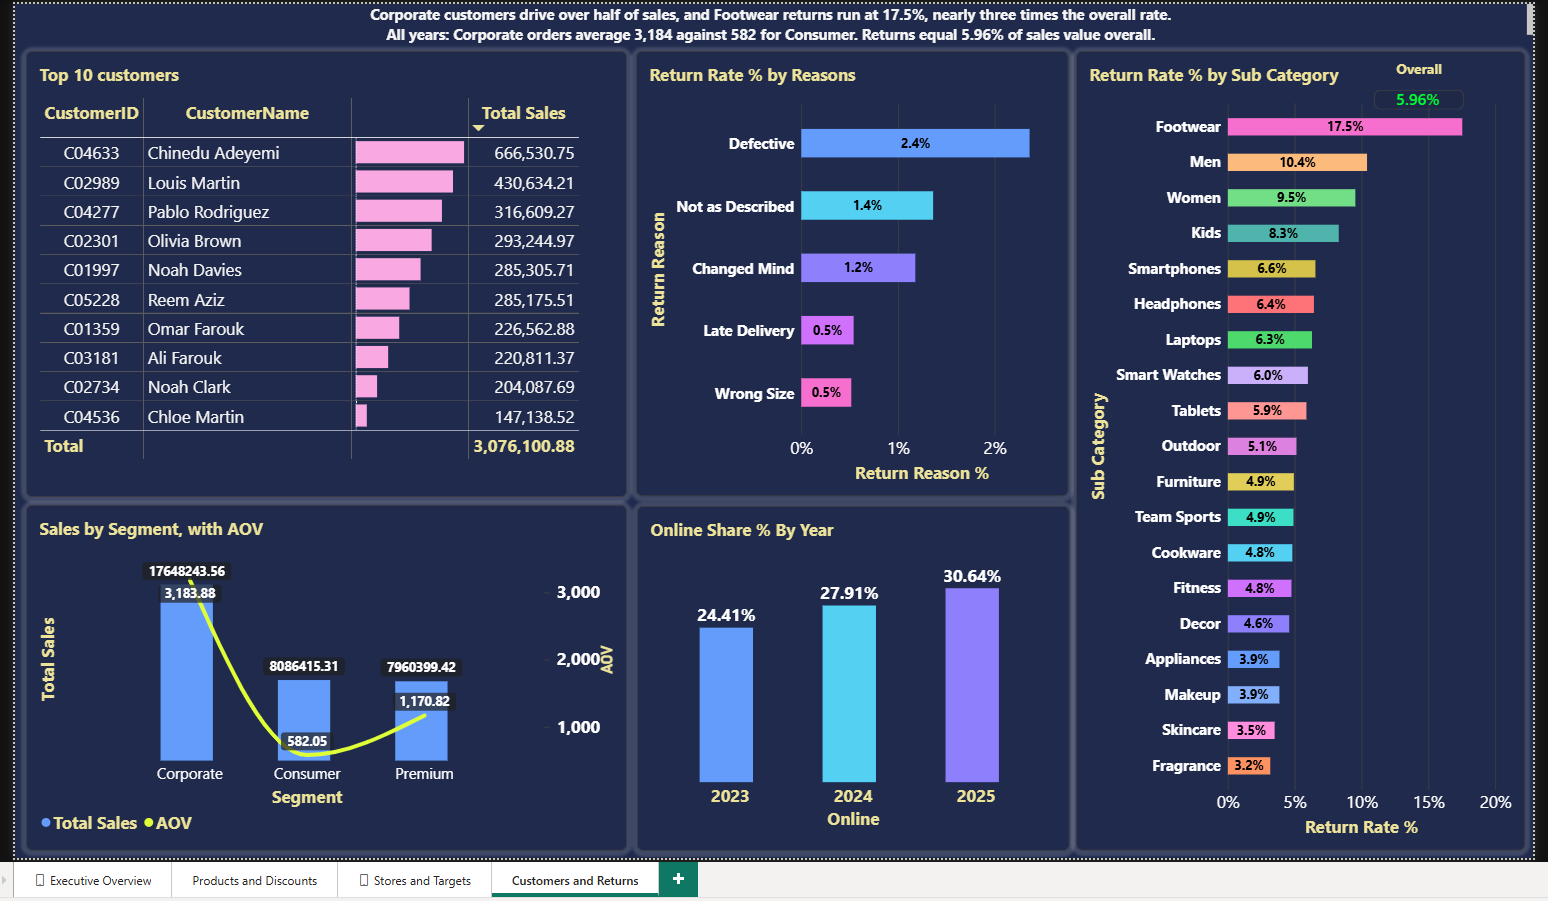

The page's visual inventory and layout, read from the dashboard file:
{"tool":"powerbi","page":{"name":"Customers and Returns","canvas":[1920,1080],"ordinal":3},"visuals":[{"type":"lineClusteredColumnComboChart","title":"Sales by Segment, with AOV","fields":{"Category":["Customers.Segment"],"Y":["Sales.Total Sales"],"Y2":["Sales.AOV"]},"box":[13.4,634,760.3,436.6],"z":1000},{"type":"tableEx","title":" Top 10 customers","fields":{"Values":["Customers.CustomerID","Customers.CustomerName","Customers.RANK BAR","Sales.Total Sales"]},"box":[13.4,59.1,760.3,564.2],"z":2000},{"type":"barChart","title":"Return Rate % by Sub Category","fields":{"Category":["Products.SubCategory"],"Series":["Products.SubCategory"],"Y":["Sales.RETURN_RATE %"]},"box":[1341.9,59.1,568.2,1011.5],"z":3000},{"type":"textbox","box":[0,0,1919.6,52.4],"z":4000},{"type":"barChart","title":"Return Rate % by Reasons","fields":{"Category":["Returns.ReturnReason"],"Series":["Returns.ReturnReason"],"Y":["Sales.RETUR REASON %"]},"box":[785.8,59.1,546.7,562.8],"z":5000},{"type":"columnChart","title":"Online Share % By Year","fields":{"Category":["Sales.Channel","DateTable.Date.Variation.Date Hierarchy.Year"],"Series":["DateTable.Date.Variation.Date Hierarchy.Year"],"Y":["Sales.ONLINE SHARE %"]},"box":[786.4,634.7,547.1,436.2],"z":6000},{"type":"cardVisual","title":"Overall","fields":{"Data":["Sales.RETURN_RATE %"]},"box":[1718.1,69.9,114.2,64.5],"z":7000}]}

Visuals, with their boxes on the page's 1920x1080 design canvas (x1, y1, x2, y2). These are canvas units, not pixel positions in the 1548x901 screenshot, which may show the page scaled, cropped or inside an application window:
"Sales by Segment, with AOV" lineClusteredColumnComboChart: [left=13, top=634, right=774, bottom=1071]
" Top 10 customers" tableEx: [left=13, top=59, right=774, bottom=623]
"Return Rate % by Sub Category" barChart: [left=1342, top=59, right=1910, bottom=1071]
textbox: [left=0, top=0, right=1920, bottom=52]
"Return Rate % by Reasons" barChart: [left=786, top=59, right=1332, bottom=622]
"Online Share % By Year" columnChart: [left=786, top=635, right=1334, bottom=1071]
"Overall" cardVisual: [left=1718, top=70, right=1832, bottom=134]
